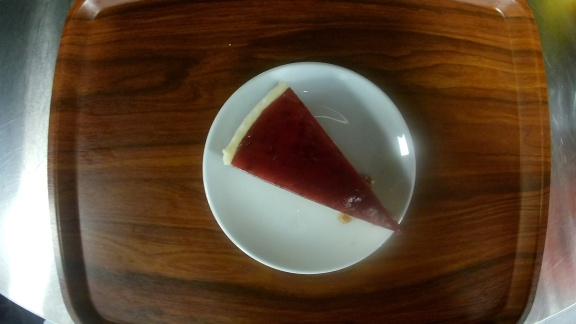frambuazlipasta: (205, 62, 418, 276)
